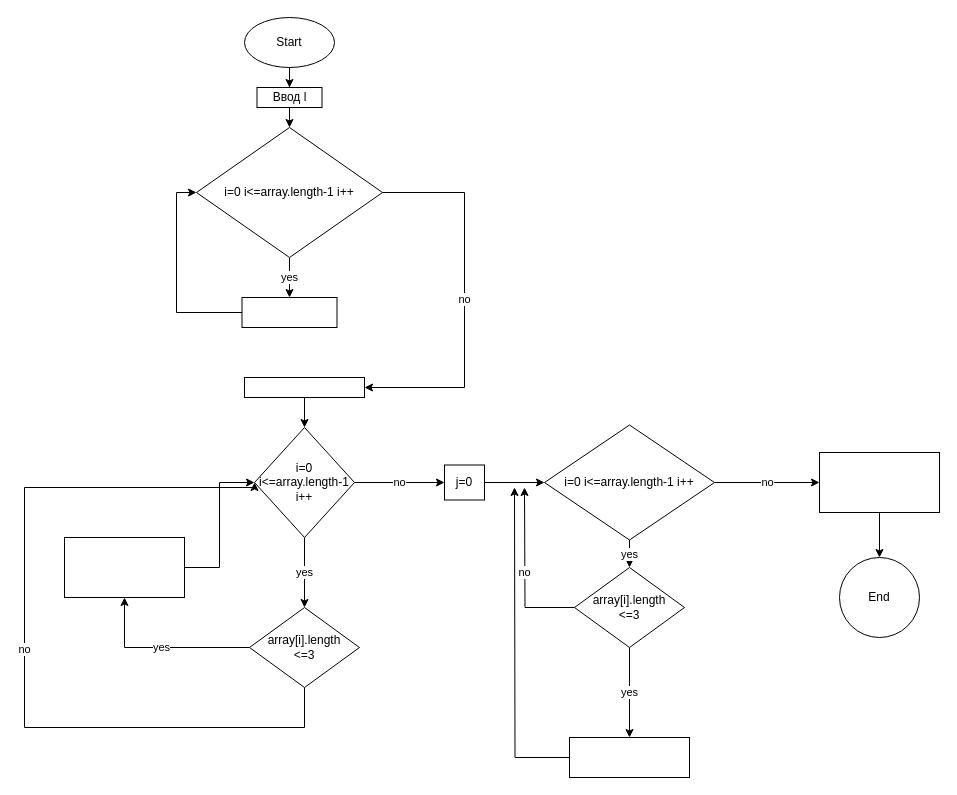
This 957x795 diagram has some shape labels left out. The box of each missing label's shape, as (x1, y1, x2, y2) in pixels:
lNewArray++: (64, 536, 184, 598)
lNewArray=0: (244, 376, 364, 398)
newArray[j]=array[i] j++: (568, 736, 690, 778)
Print array[] Print newArray[]: (818, 452, 940, 512)
Ввод array[i]: (241, 296, 337, 328)
